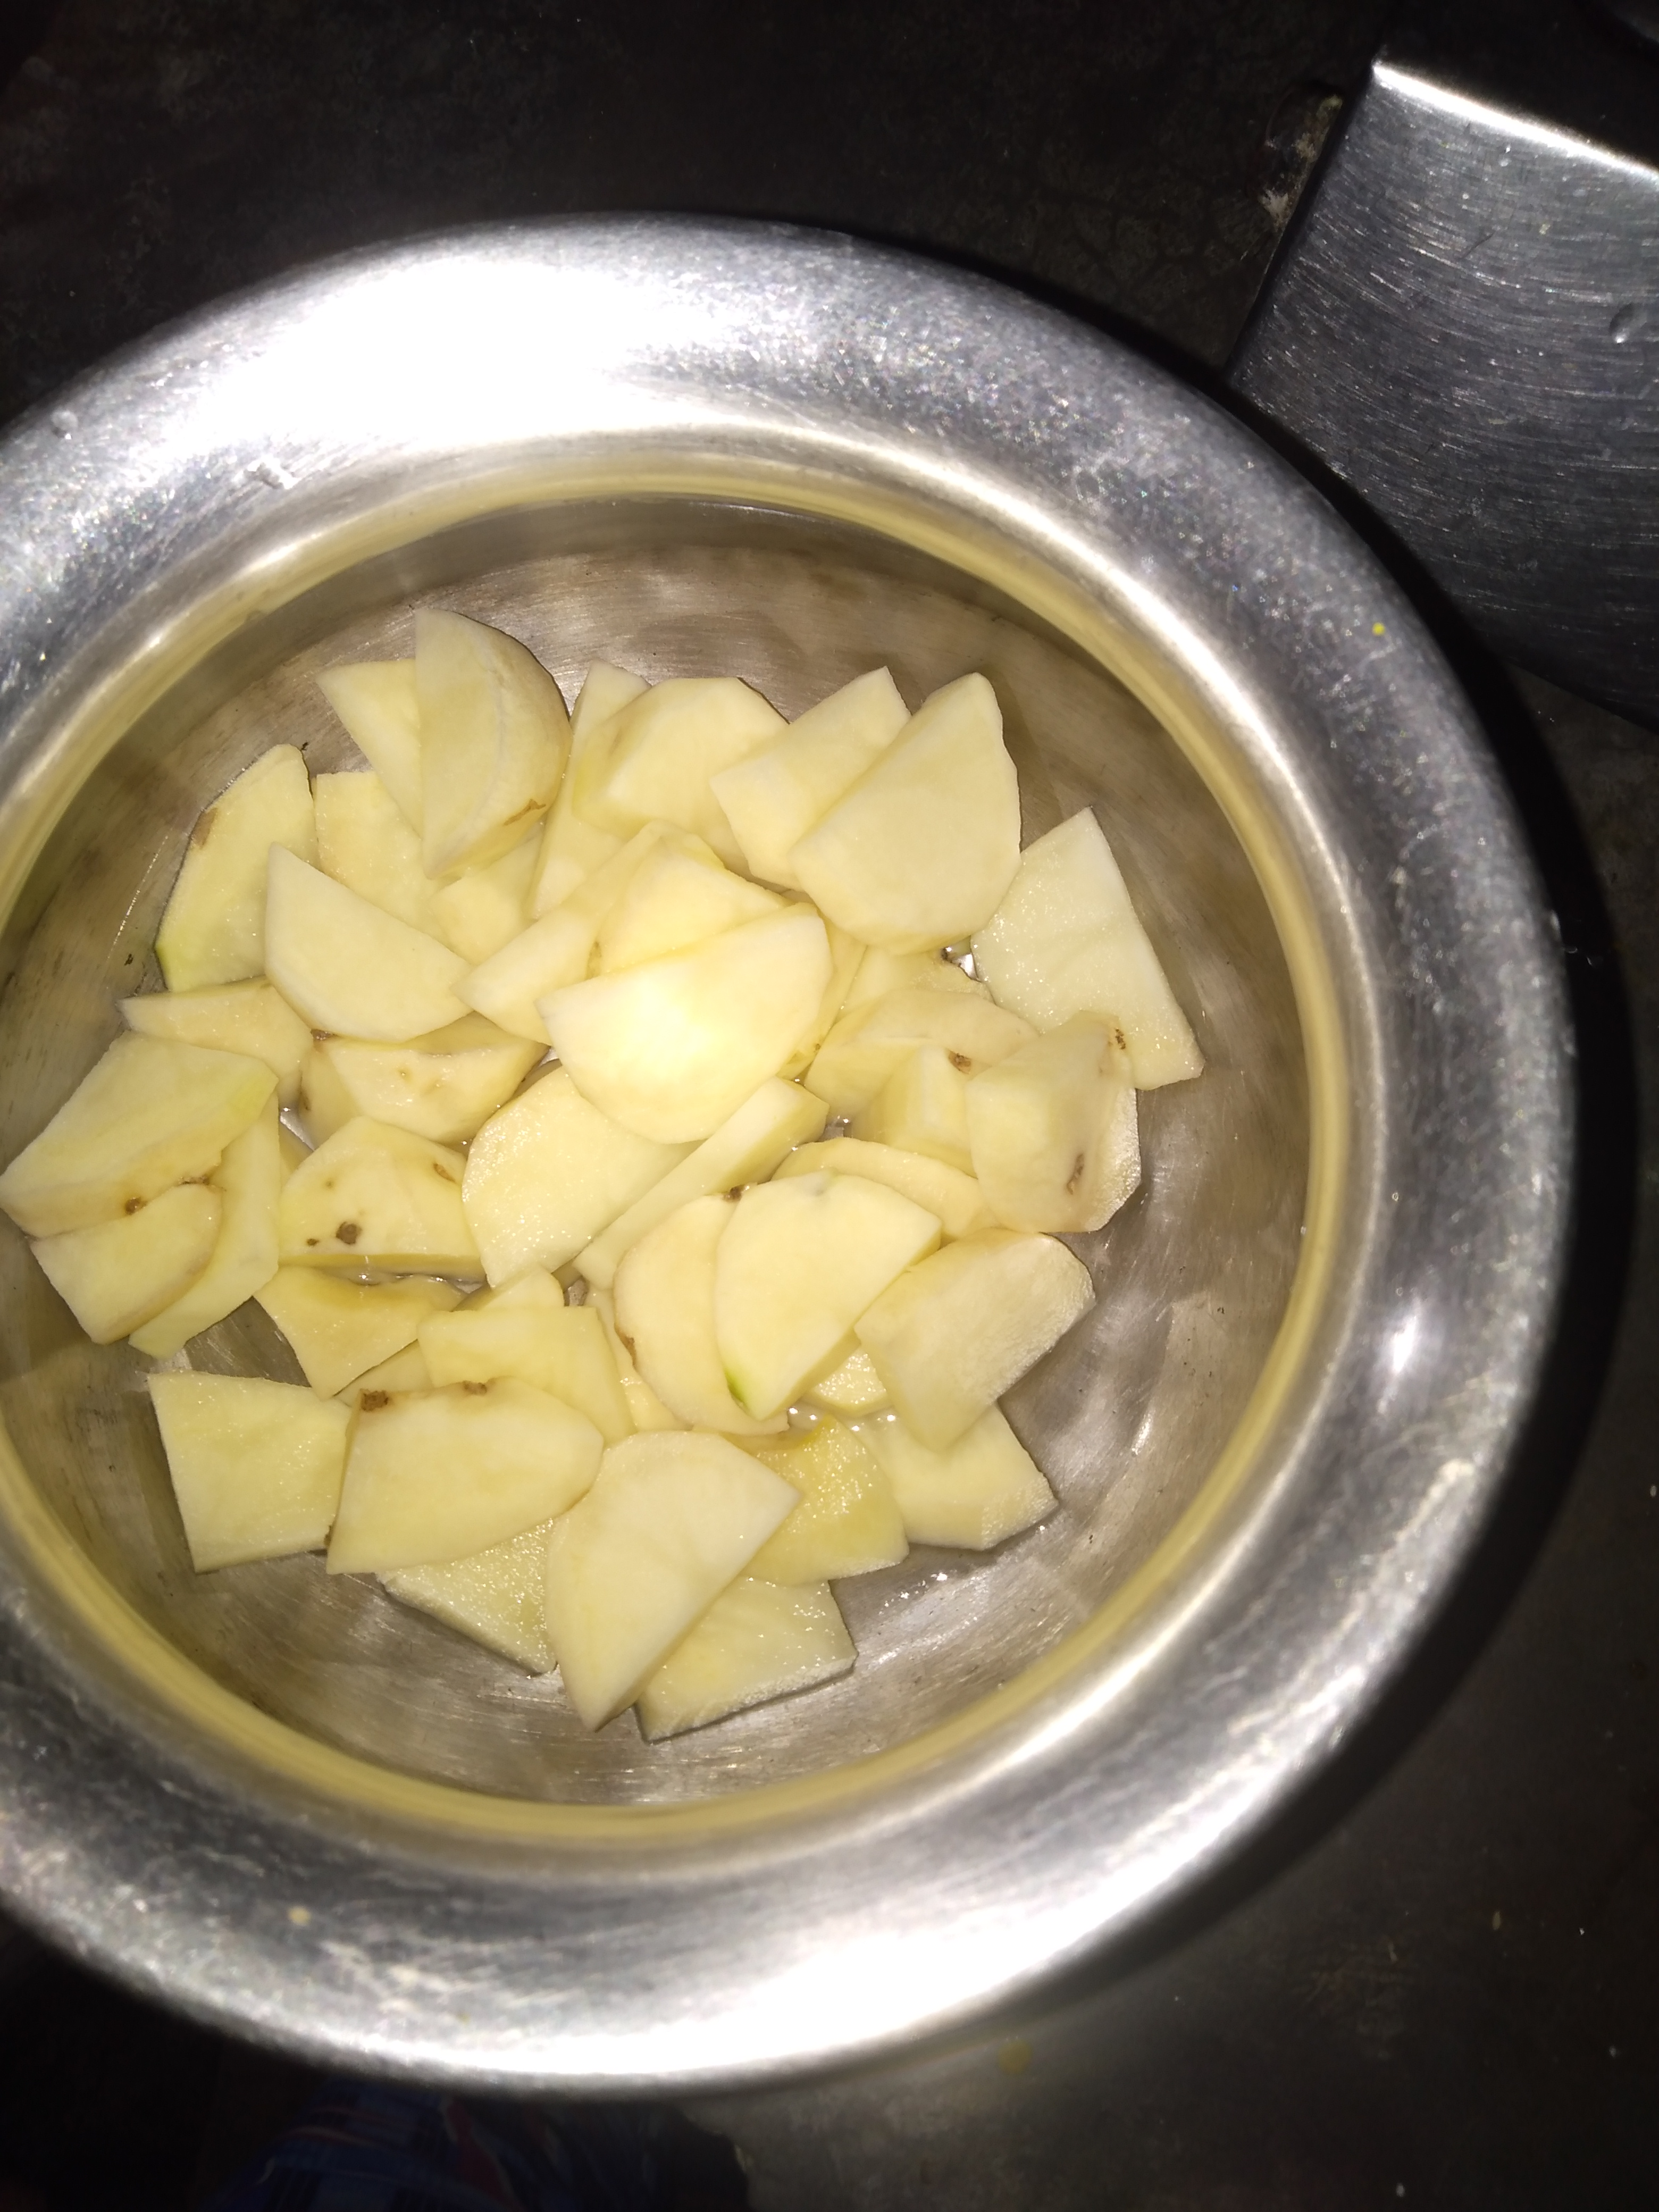food: (2, 590, 1213, 1757)
